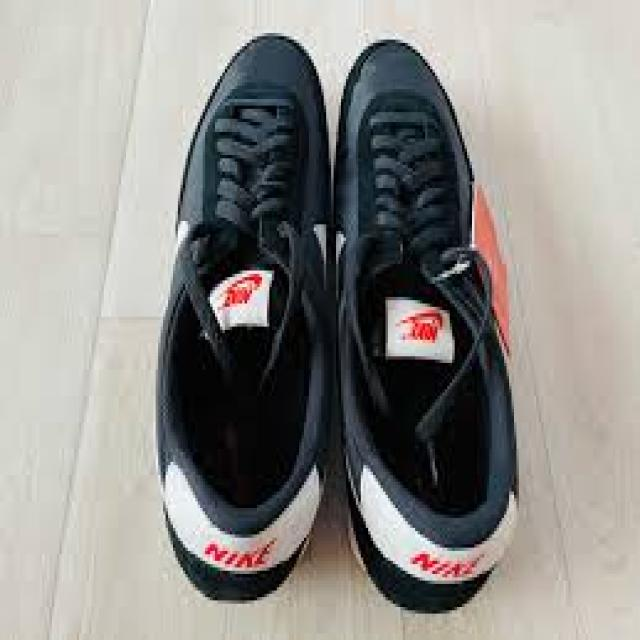shoe: (326, 44, 518, 608), (154, 31, 326, 606)
